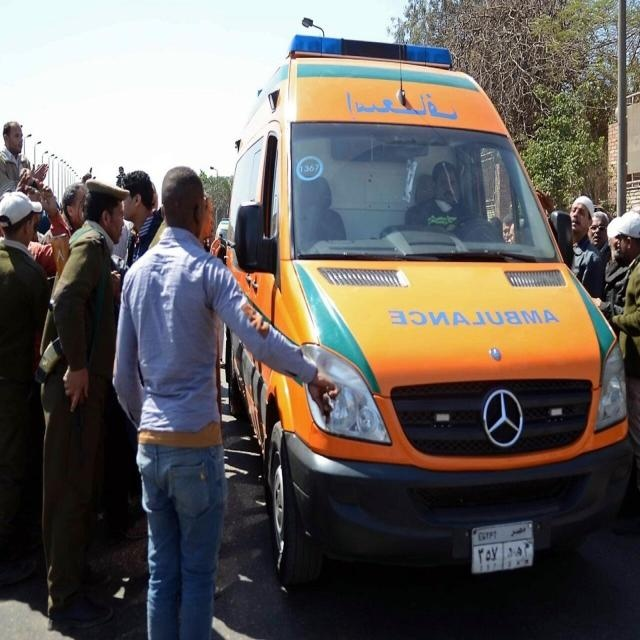Ambulance: (218, 17, 634, 589)
person: (111, 166, 339, 639)
